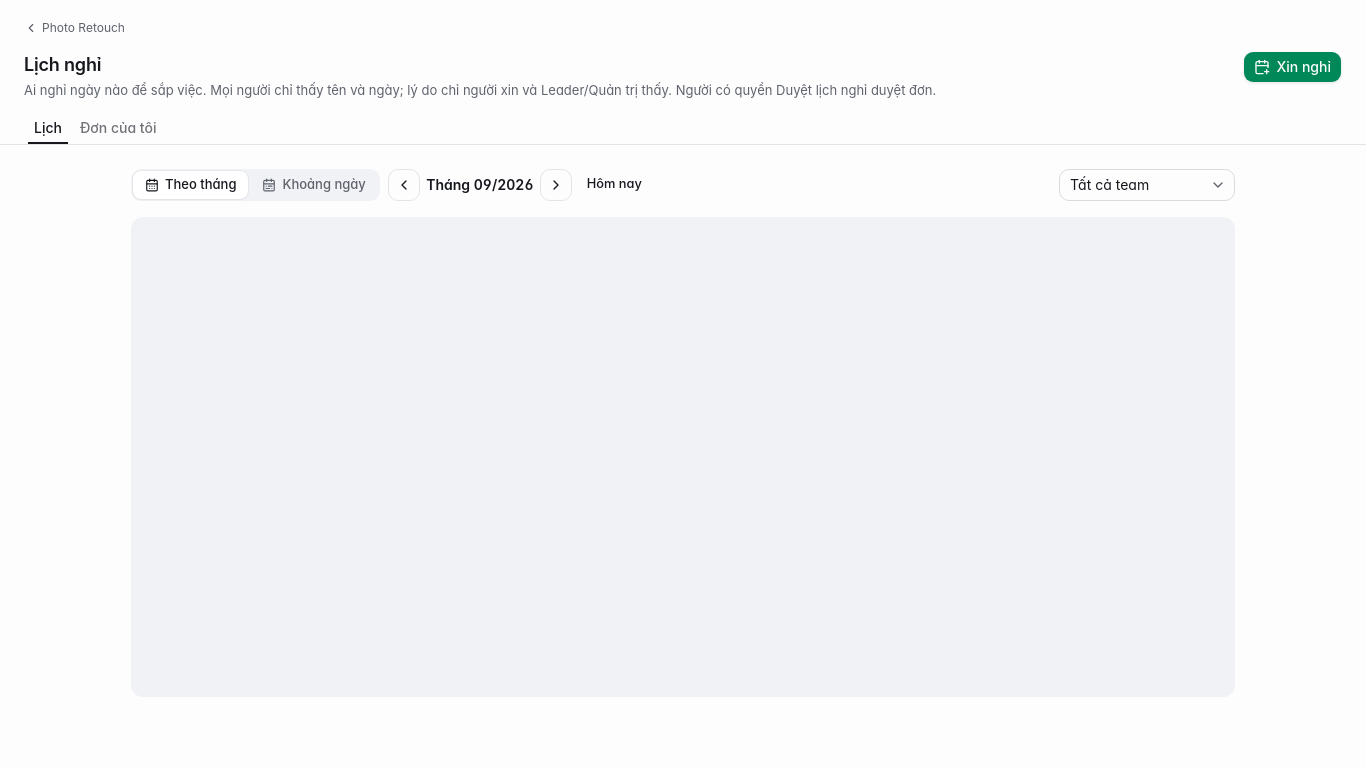
Test: Khoảng ngày › switching to Khoảng ngày starts from the shown month
What coordinates should you click on to do the following:
click the radio button labelled "Khoảng ngày"
I would click on:
 (314, 185)
Its box is [250, 171, 378, 199].
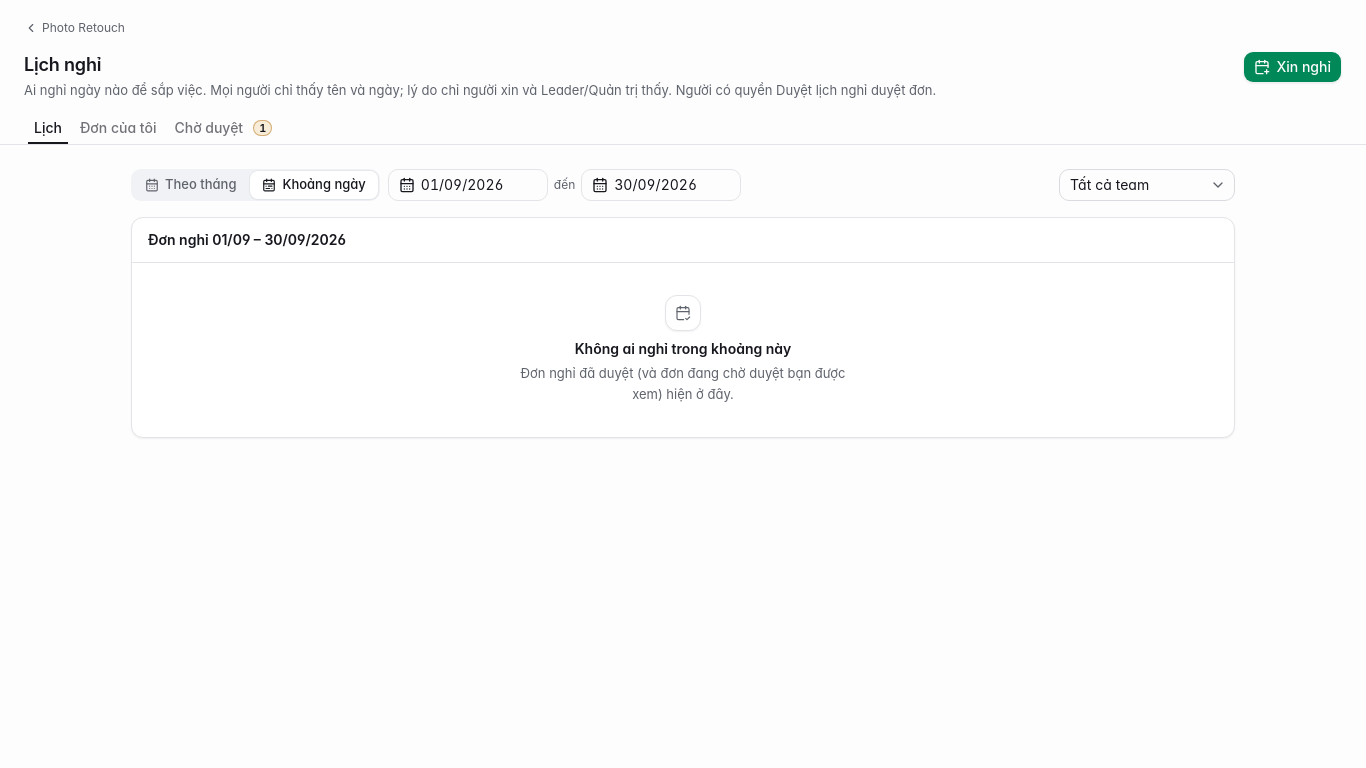
Check: the heading "Không ai nghỉ trong khoảng này" is shown, box [575, 340, 791, 357]
